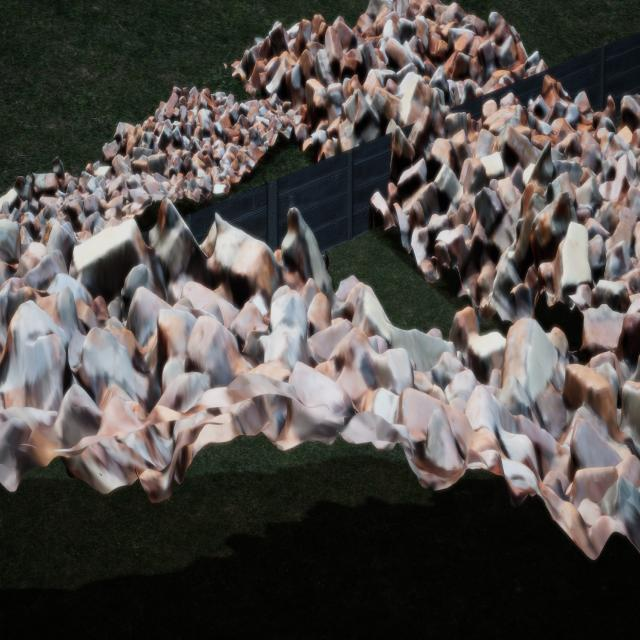Human: (316, 243, 340, 304)
